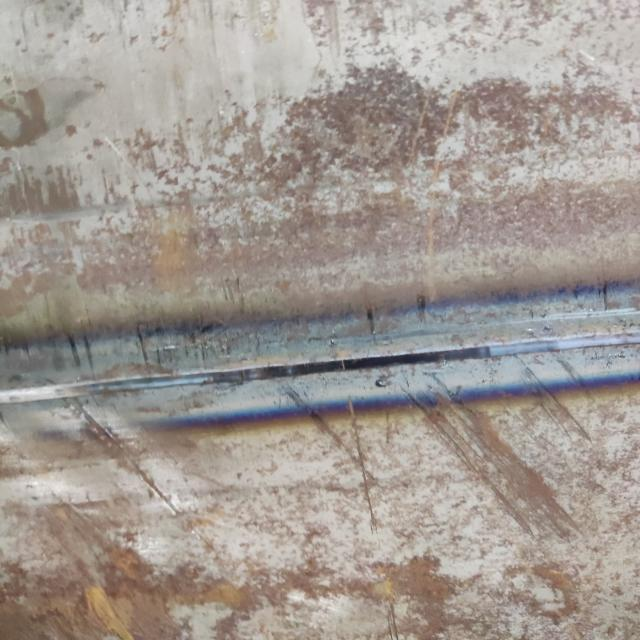seam: (0, 264, 640, 462)
